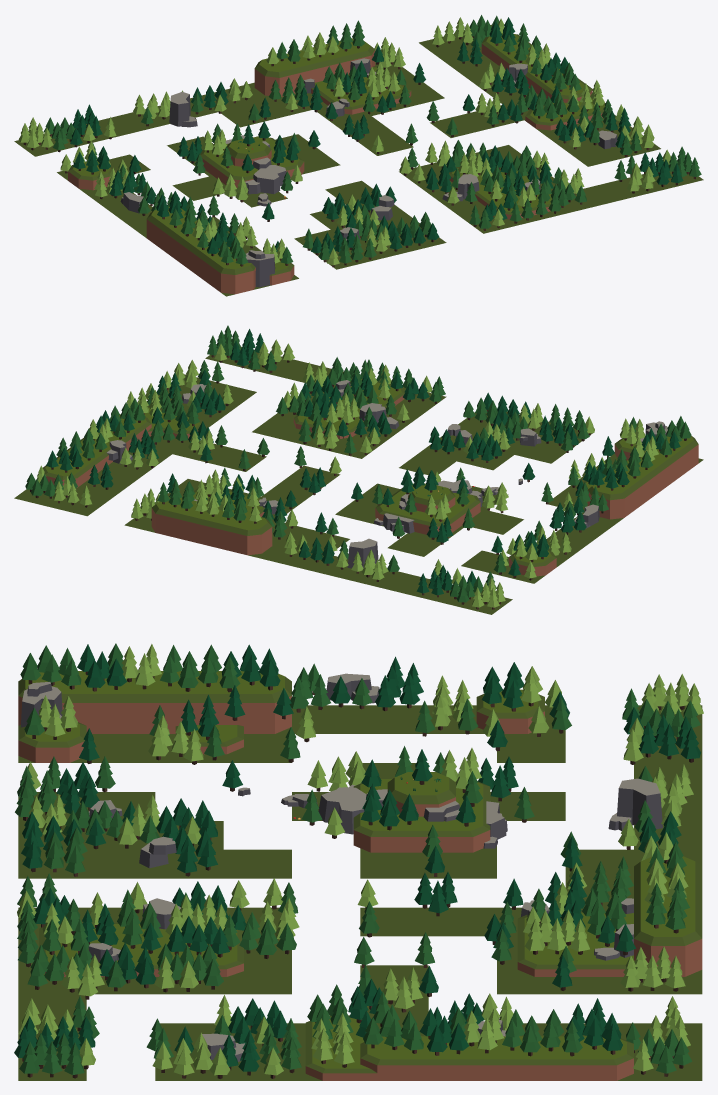
File: Baked Mesh.obj
The picture shows the model from 3 angles, top to bottom: view 1: azimuth 30°, elevation 25°; view 2: azimuth 150°, elevation 25°; view 3: azimuth 270°, elevation 25°; orthographic projection. The views are drawn at different scales.
Visible parts, largest first — view 1: Baked Mesh; view 2: Baked Mesh; view 3: Baked Mesh.
Boxes of the visible parts, bbox=[...] form: Baked Mesh: bbox=[14, 15, 703, 296]; Baked Mesh: bbox=[14, 325, 703, 614]; Baked Mesh: bbox=[14, 643, 703, 1080].
Bounding box in the file's own units: 131 × 12.1 × 101.
